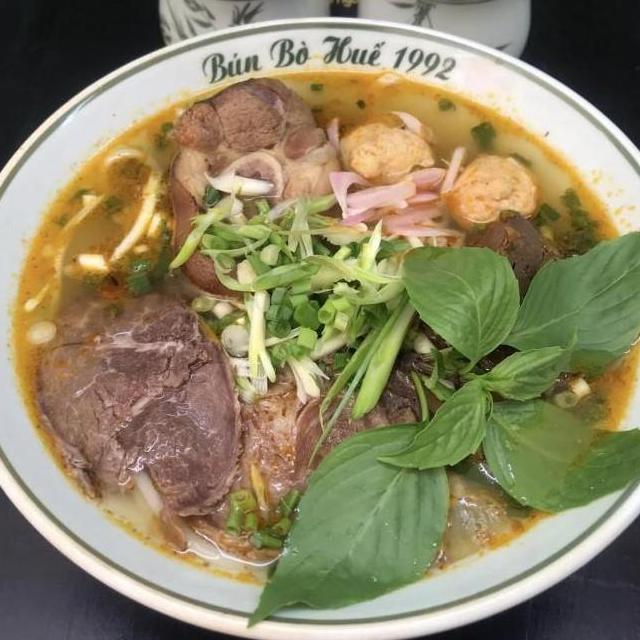bun: (54, 140, 182, 290)
bun bo: (14, 63, 640, 607)
thit bo: (31, 274, 254, 524), (180, 374, 420, 566)
thit heo: (162, 68, 346, 302)
